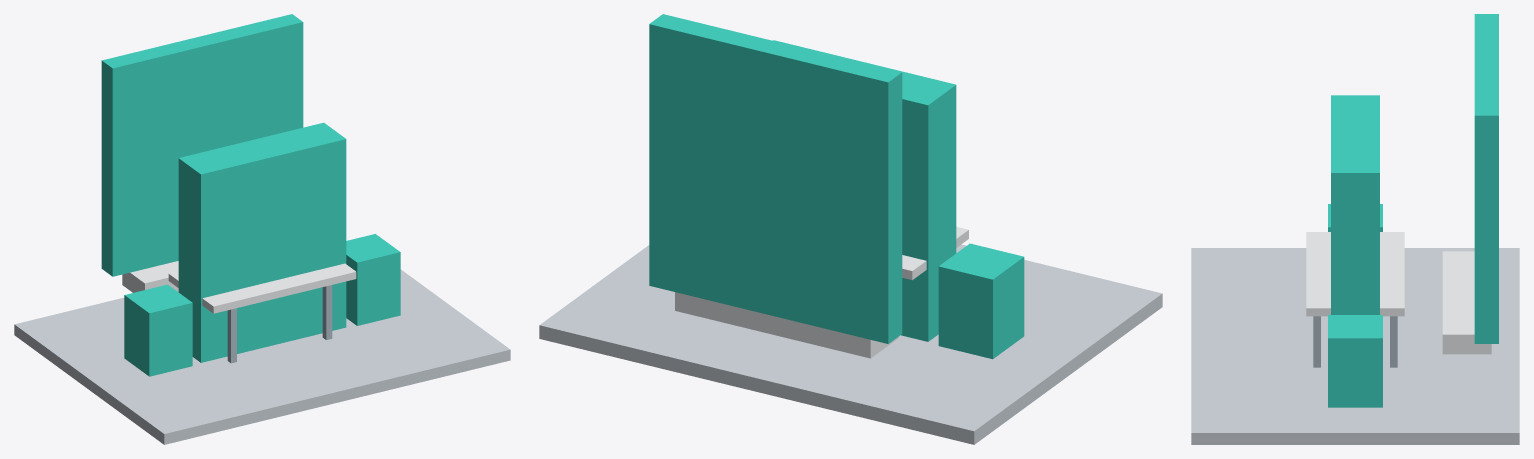
3 views of the same model, side by side, from view 1: azimuth 30°, elevation 25°; view 2: azimuth 150°, elevation 25°; view 3: azimuth 270°, elevation 25° (orthographic). The views are drawn at different scales.
Parts seen in each view (by area): view 1: Exhibition Booth Concept; view 2: Exhibition Booth Concept; view 3: Exhibition Booth Concept.
Boxes of the visible parts, left/top/right/bottom form: Exhibition Booth Concept: left=14, top=14, right=510, bottom=444; Exhibition Booth Concept: left=539, top=14, right=1162, bottom=444; Exhibition Booth Concept: left=1191, top=14, right=1519, bottom=444.
Bounding box in the file's own units: 4 × 2.9 × 3.
